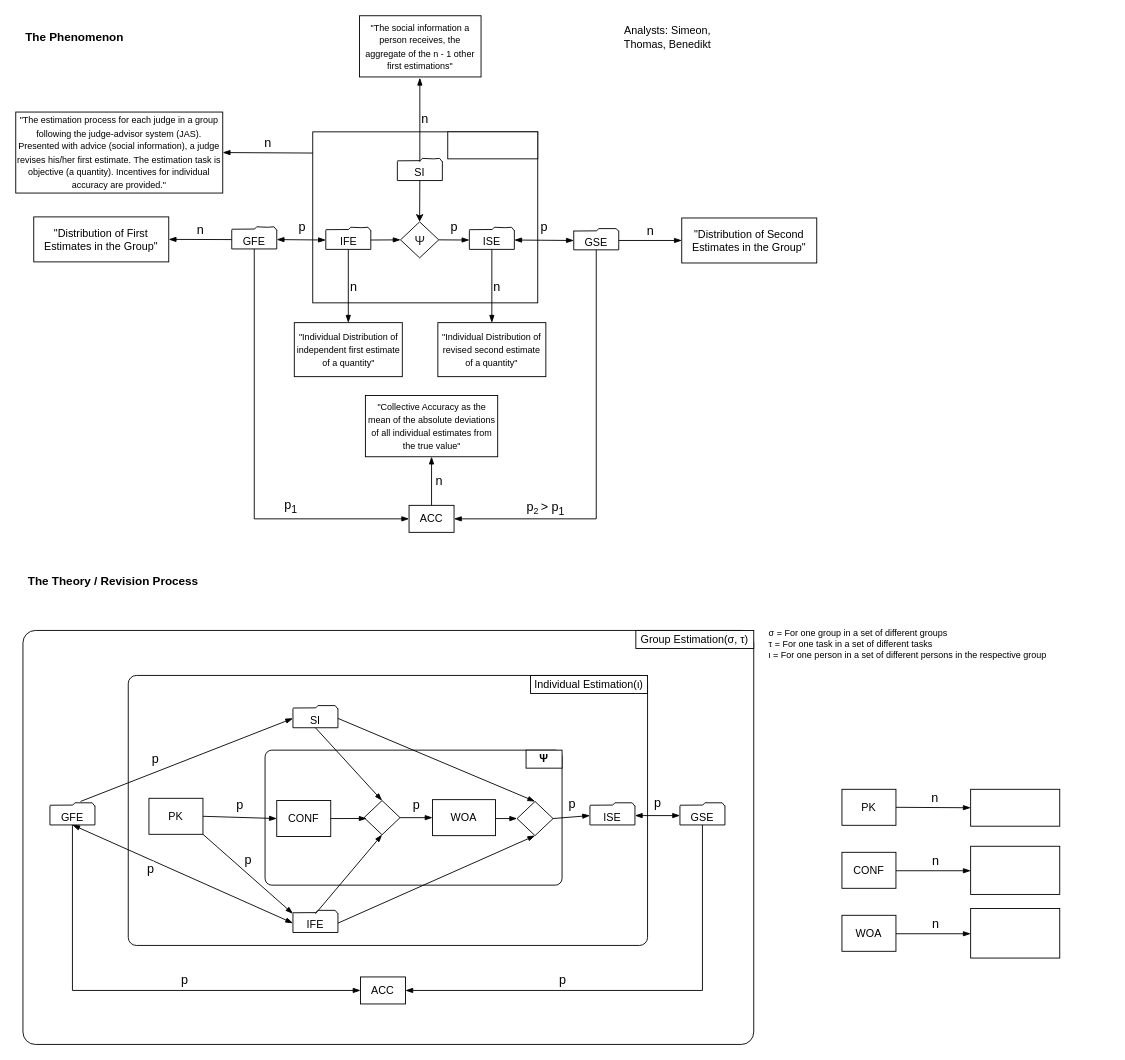
Some shapes in this 1125 by 1060 pixel diagram are drawn without their labels. Here are the shapes that lost their labels. From the top down, the centre of each, then its label:
the point at 492,145: JAS-Estimation
the point at 381,817: F1
the point at 534,818: F2
the point at 1015,807: "A persons prior knowledge"
the point at 1015,869: "A persons confidence in her first estimate"
the point at 1015,933: "The weight a person puts on advice (=social information)"
